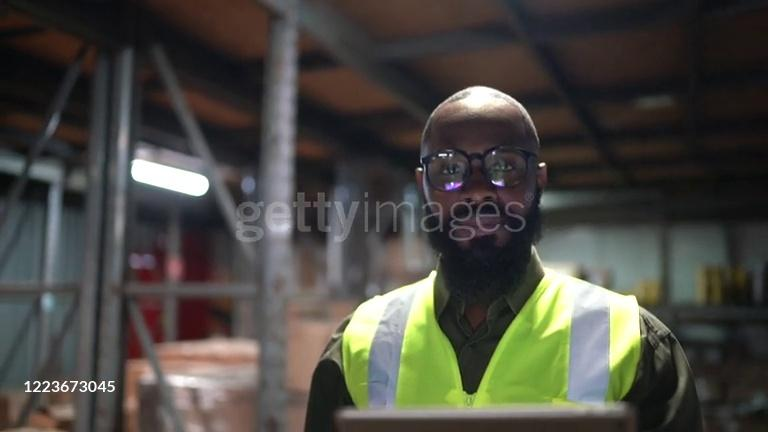person: (302, 83, 705, 432)
